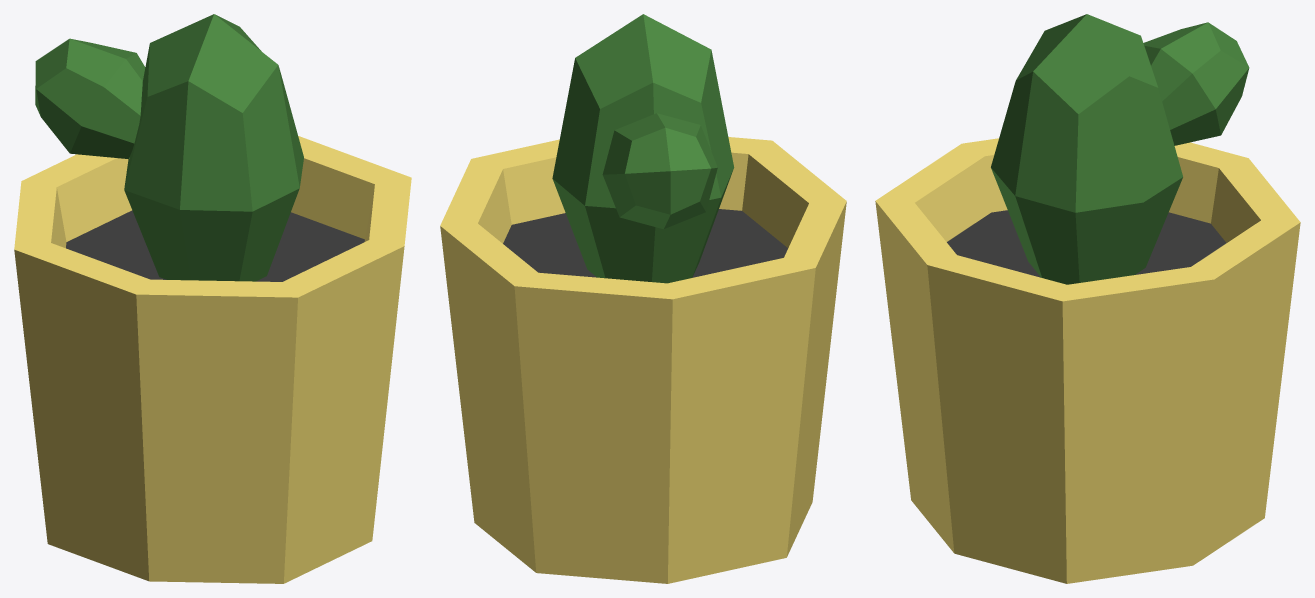
Rendered from Flower_61.fbx.
3 renders of one model, left to right at view 1: azimuth 30°, elevation 25°; view 2: azimuth 150°, elevation 25°; view 3: azimuth 270°, elevation 25°, orthographic.
Parts seen in each view (by area): view 1: Flower_61; view 2: Flower_61; view 3: Flower_61.
Boxes of the visible parts, x1,y1,x2,y2 form: Flower_61: (14, 14, 411, 583); Flower_61: (440, 14, 846, 583); Flower_61: (875, 14, 1300, 583).
Size of the model in its own units: 21.6 by 21.6 by 27.77.
